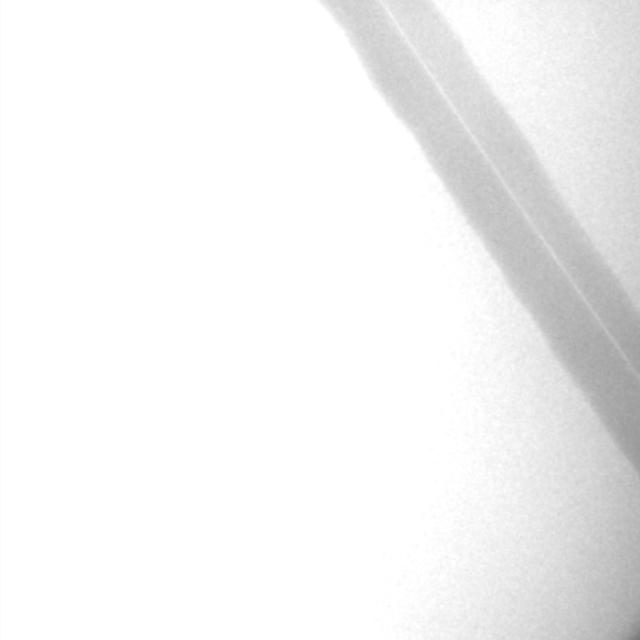broken arc: (383, 4, 635, 371)
